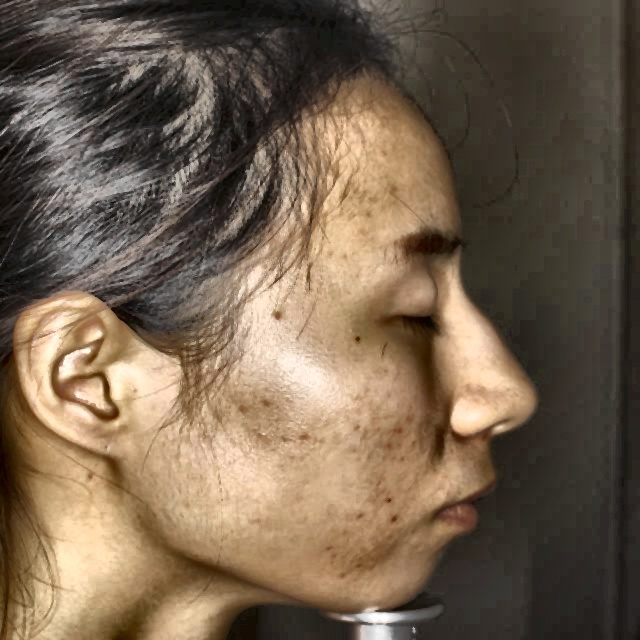comedone: (383, 410, 419, 446), (375, 502, 406, 533)
